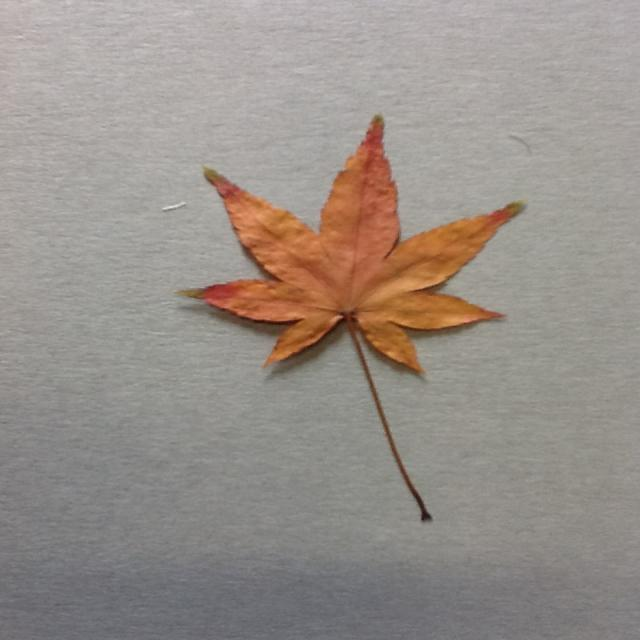foliage: (182, 114, 526, 526)
